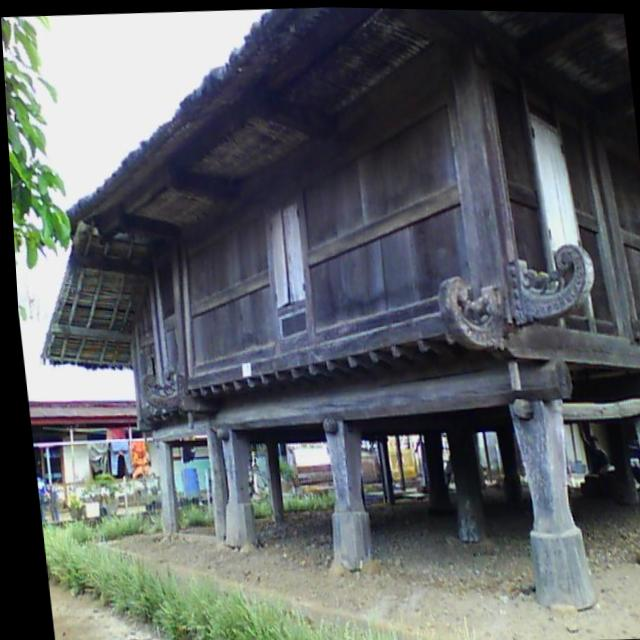Ornamen: (438, 243, 593, 349)
